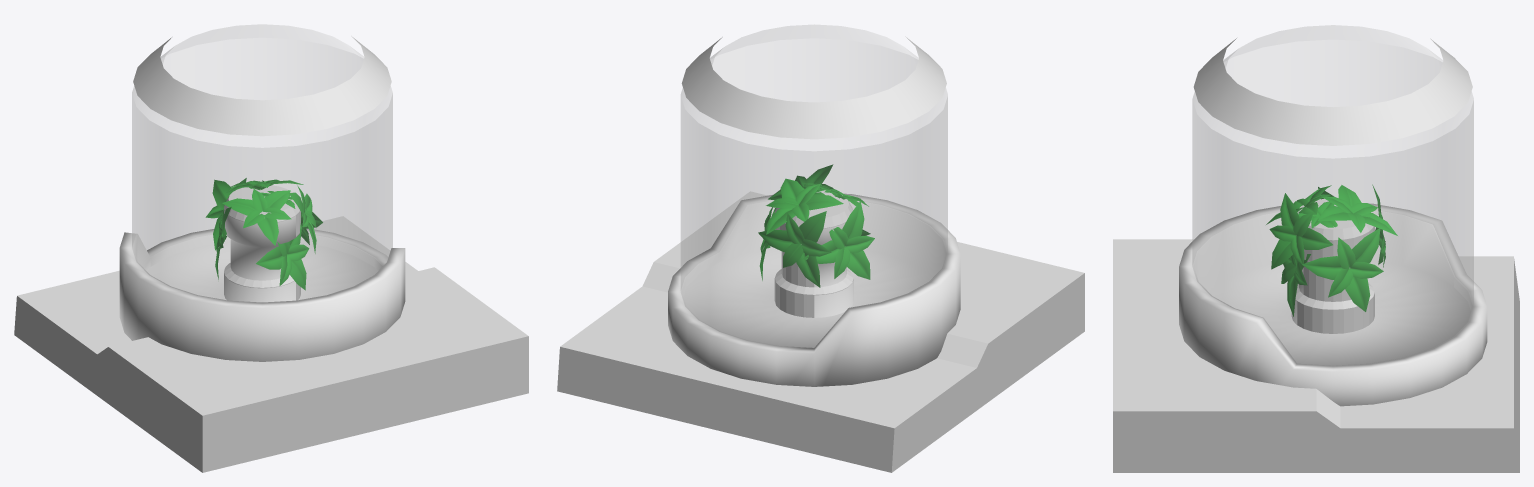
File: OxygenContainer.glb
3 views of the same model, side by side, from view 1: azimuth 30°, elevation 25°; view 2: azimuth 150°, elevation 25°; view 3: azimuth 270°, elevation 25° (orthographic). The views are drawn at different scales.
Parts seen in each view (by area): view 1: GlassDome, Subtraction, Container, Container.001, Ring, Plant, Container.002; view 2: GlassDome, Subtraction, Container.001, Container, Ring, Plant, Container.002; view 3: GlassDome, Subtraction, Container.001, Ring, Plant, Container.002, Container.
Part boxes in pixels (box(x1,y1,x2,y2)): GlassDome: box(132, 24, 392, 302); Subtraction: box(14, 216, 528, 472); Container: box(119, 208, 386, 361); Container.001: box(119, 228, 405, 330); Ring: box(133, 36, 391, 136); Plant: box(205, 178, 322, 290); Container.002: box(224, 185, 300, 300); GlassDome: box(681, 24, 947, 348); Subtraction: box(557, 191, 1084, 472); Container.001: box(668, 193, 960, 386); Container: box(682, 202, 960, 386); Ring: box(681, 36, 946, 139); Plant: box(758, 164, 874, 287); Container.002: box(774, 190, 853, 317); GlassDome: box(1192, 25, 1473, 365); Subtraction: box(1113, 239, 1519, 472); Container.001: box(1179, 203, 1487, 406); Ring: box(1193, 38, 1472, 145); Plant: box(1266, 184, 1397, 316); Container.002: box(1295, 198, 1374, 333); Container: box(1179, 235, 1472, 356).
Size of what is drawn, in the model's own units: 5.28 by 4.66 by 5.28.
